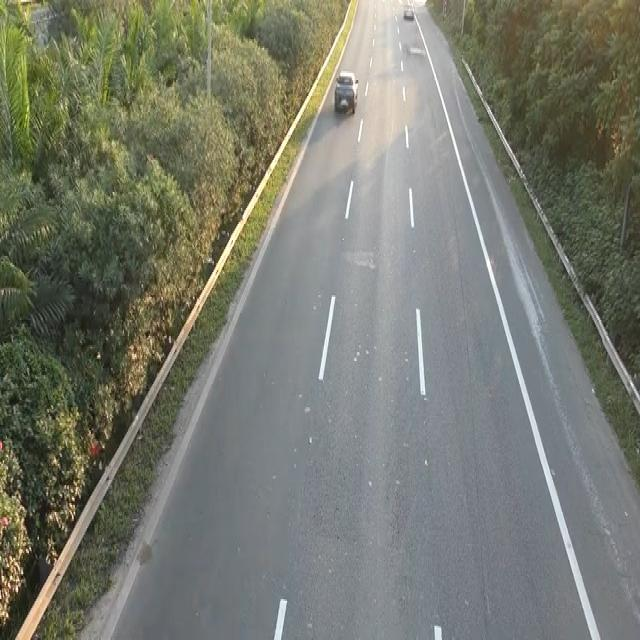car: (332, 68, 359, 116)
